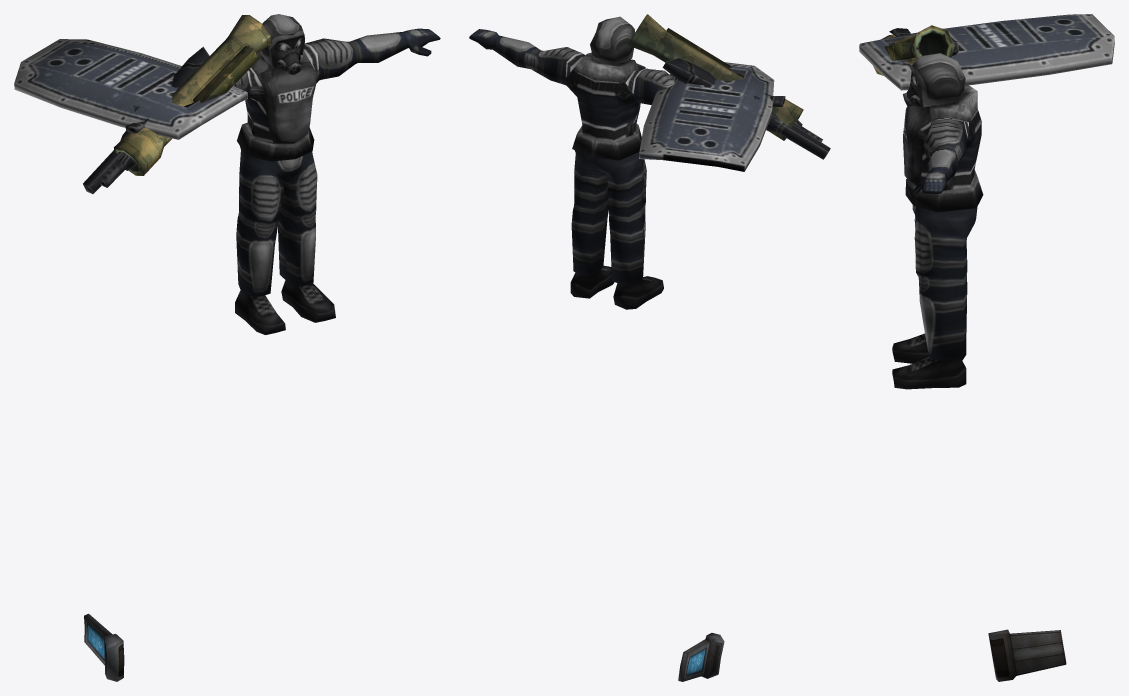
Rendered from UPLRiotOfficer.glb.
3 views of the same model, side by side, from view 1: azimuth 30°, elevation 25°; view 2: azimuth 150°, elevation 25°; view 3: azimuth 270°, elevation 25° (orthographic). The views are drawn at different scales.
Parts seen in each view (by area): view 1: Mesh, RiotShield, Launcher, Tablet, Shotgun; view 2: Mesh, RiotShield, Launcher, Shotgun, Tablet; view 3: Mesh, RiotShield, Tablet, Launcher.
Part boxes in pixels (x1=…): Mesh: x1=132, y1=14, x2=440, y2=334; RiotShield: x1=14, y1=39, x2=247, y2=139; Launcher: x1=114, y1=15, x2=271, y2=175; Tablet: x1=84, y1=613, x2=124, y2=681; Shotgun: x1=83, y1=46, x2=209, y2=193; Mesh: x1=469, y1=16, x2=759, y2=309; RiotShield: x1=639, y1=62, x2=774, y2=171; Launcher: x1=628, y1=14, x2=803, y2=140; Shotgun: x1=662, y1=58, x2=830, y2=159; Tablet: x1=678, y1=633, x2=724, y2=681; Mesh: x1=892, y1=53, x2=983, y2=389; RiotShield: x1=859, y1=14, x2=1114, y2=90; Tablet: x1=988, y1=629, x2=1066, y2=681; Launcher: x1=873, y1=25, x2=954, y2=75.
Bounding box in the file's own units: 1.36 × 2.35 × 0.7698.
Materials: 7 (7 with a texture image).
